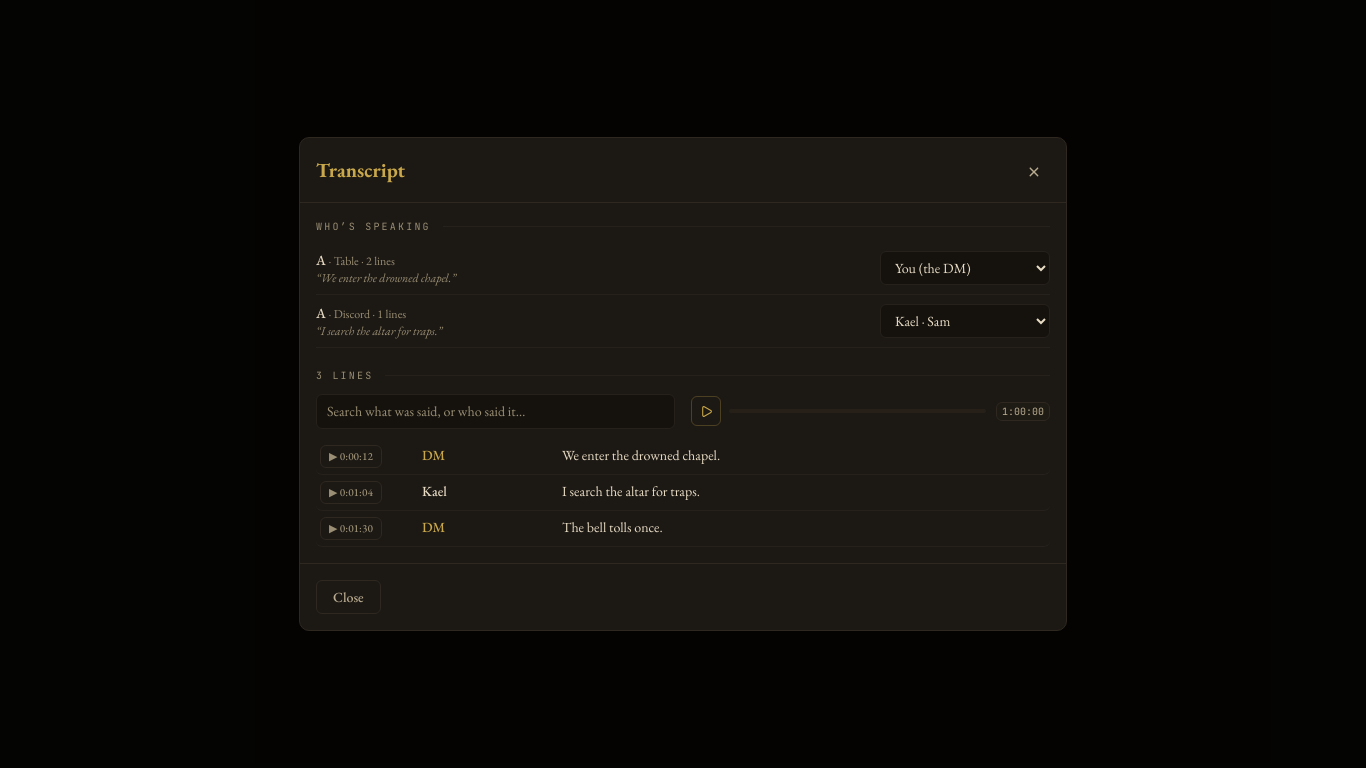
Test: TranscriptModal › says when nothing matches
Expected: the text "We enter the drowned chapel." is shown, [562,446,720,464]
Type "dragon" into the search field named "Search the transcript" at (496, 411), box [316,394,675,429]
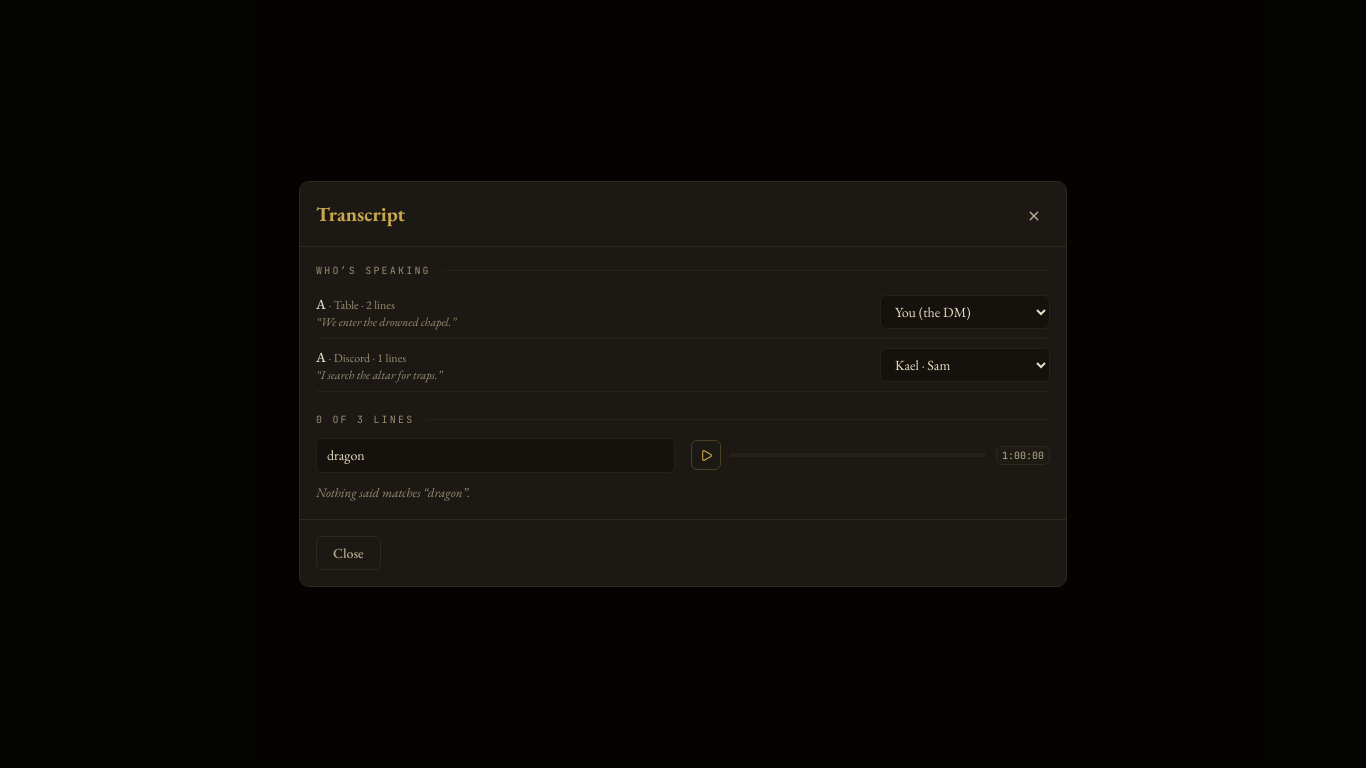
Now the text "Nothing said matches “dragon”." is shown, box [316,484,470,501]
